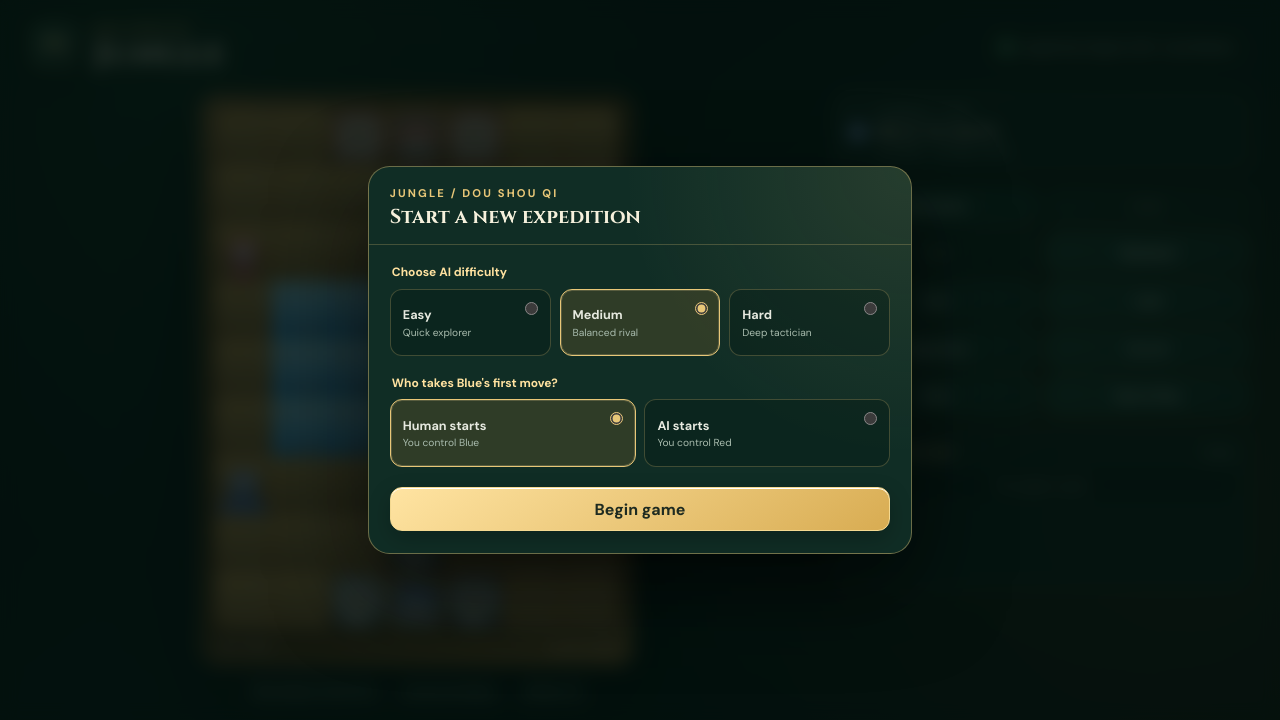
Test: App runtime states and preferences › cancels the active search when AI vs AI is stopped
The width and height of the screenshot is (1280, 720).
Expected: the dialog "Start a new expedition" is shown, [368,166,912,554]
What coordinates should you click on to do the following:
click the button "Begin game"
I would click on:
 (640, 509)
Its box is [390,487,890,531].
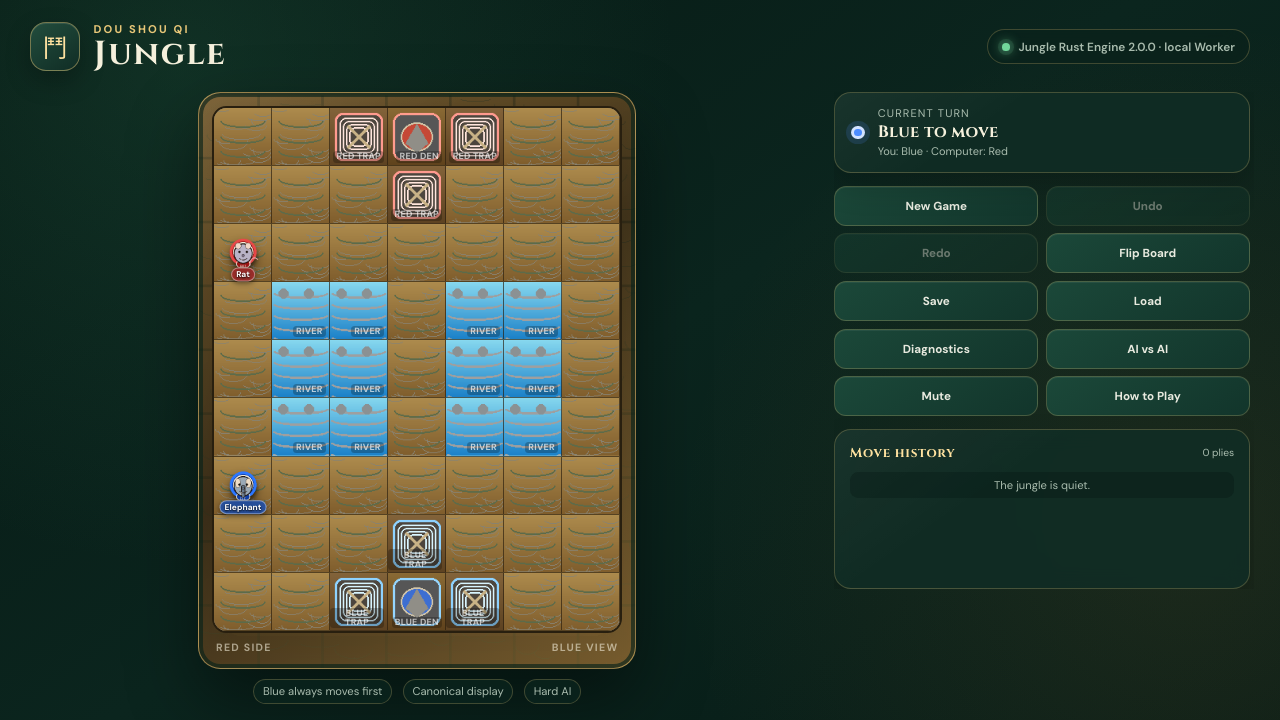
What coordinates should you click on to do the following:
click the button "AI vs AI"
I would click on:
 (1148, 349)
Its box is [1046,329,1250,369].
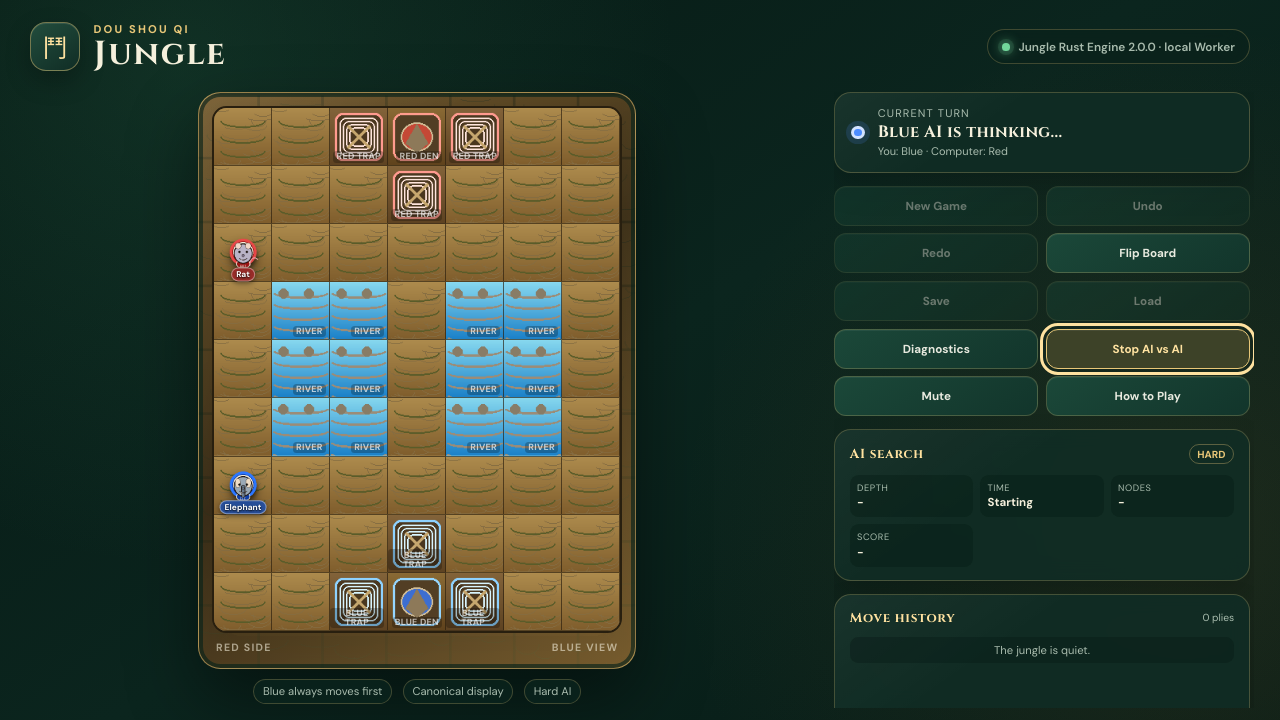
What coordinates should you click on to do the following:
click the button "Stop AI vs AI"
I would click on:
 (1148, 349)
Its box is [1046,329,1250,369].
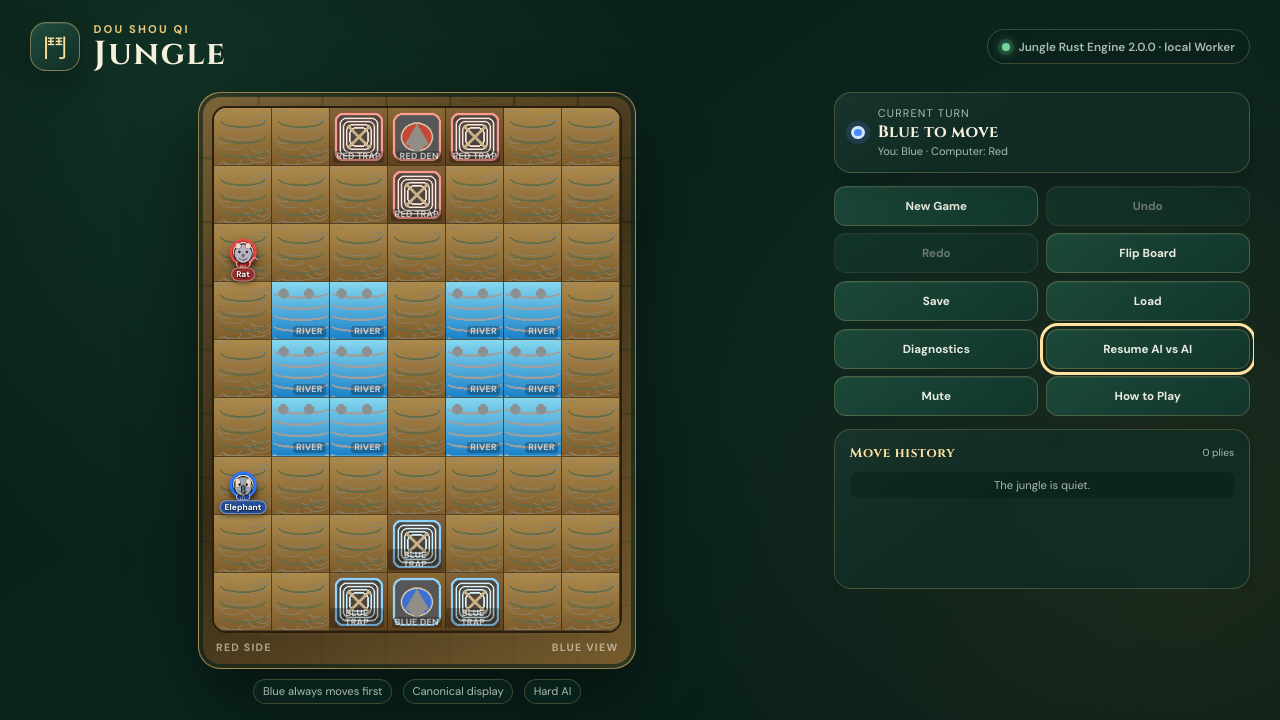
Now the button "Resume AI vs AI" is shown, box [1046,329,1250,369]
